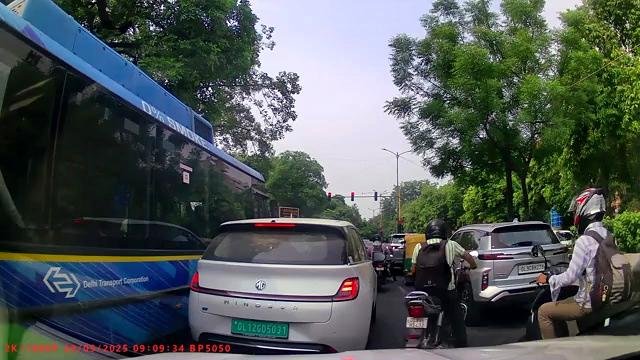motorcycle_with_helmet: (530, 188, 640, 338), (403, 216, 477, 347)
